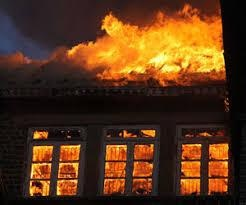fire: (79, 3, 225, 84), (27, 136, 81, 194), (101, 137, 155, 194), (178, 137, 230, 193)
